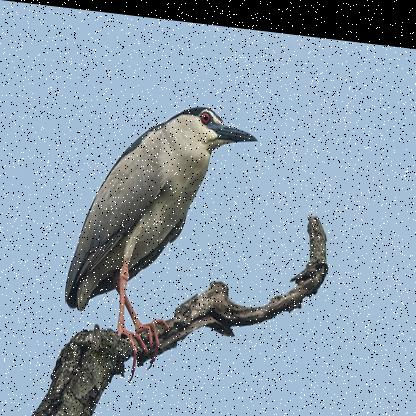Burung: (64, 89, 259, 391)
